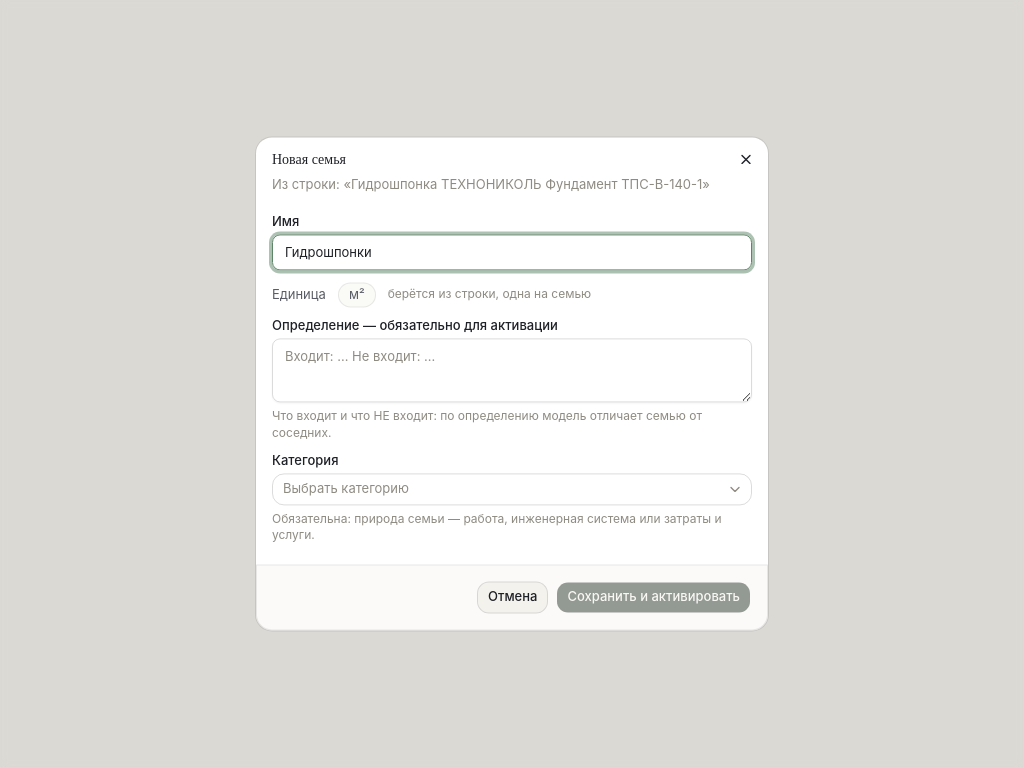
Test case: CreateFamilyDialog › имя, определение и категория заполнены — кнопка активна
In the text box labelled "Определение — обязательно для активации": (512, 370) [272,338,752,402], type "Входит: шпонки. Не входит: мастики."
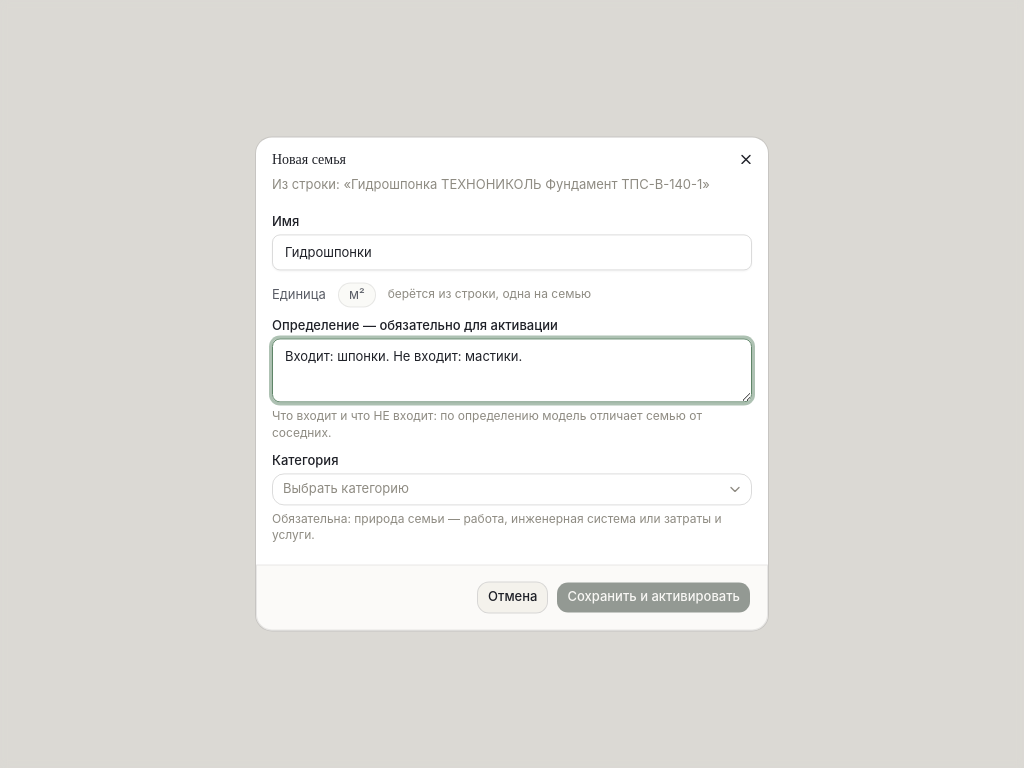
Click the dropdown named "Категория": (346, 488) [272,473,752,505]
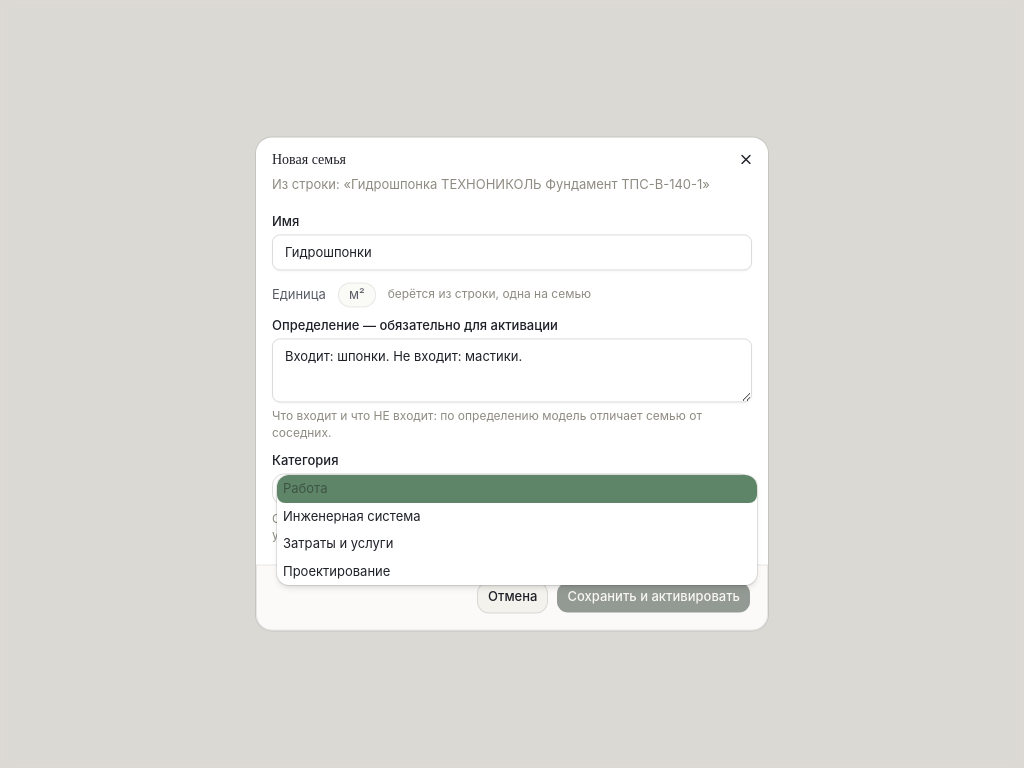
Click the option "Работа": (305, 488) [277,475,757,503]
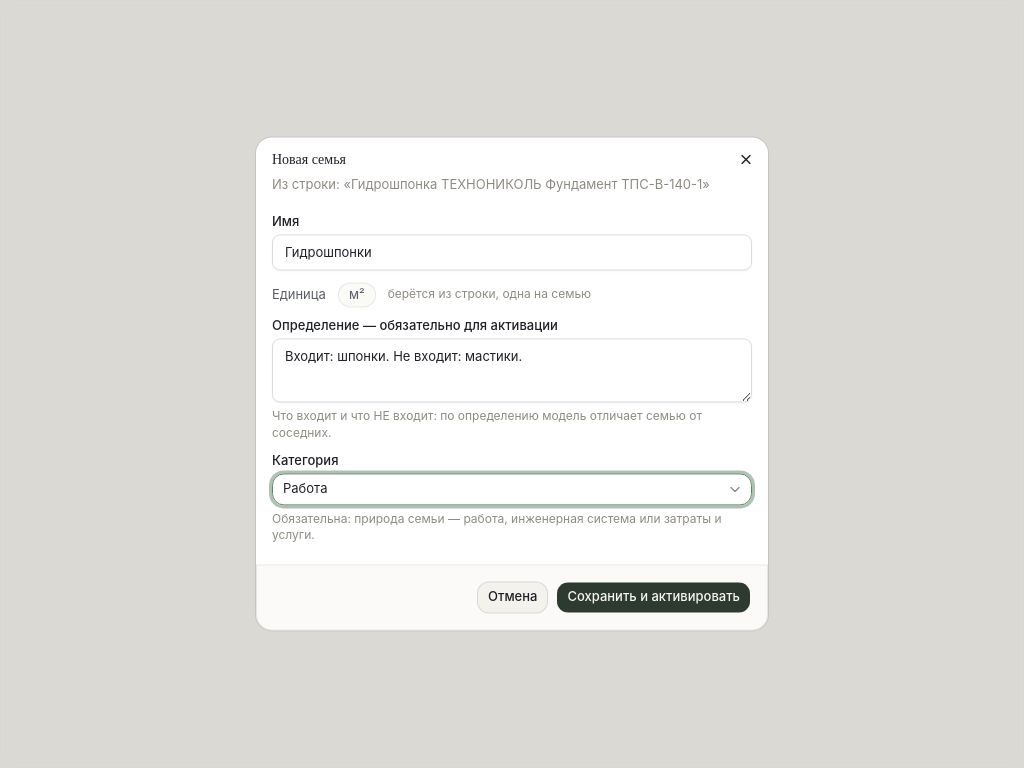
Expected: the button "Сохранить и активировать" is enabled, [556,582,751,614]
